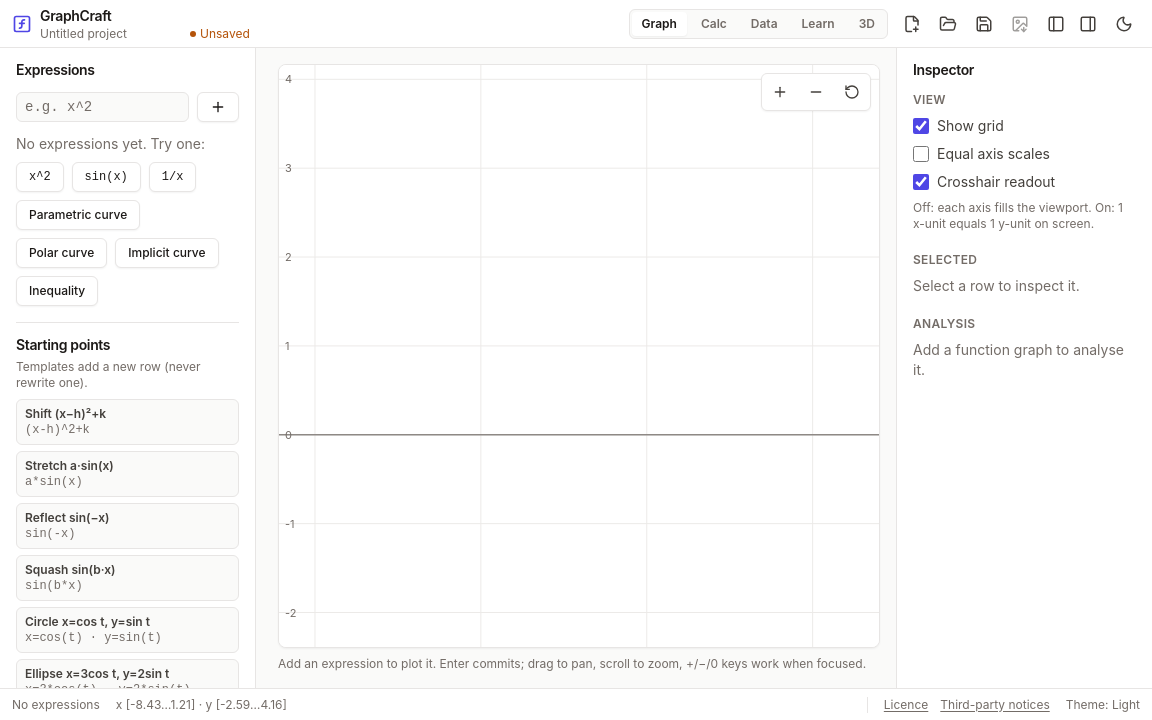
Test case: viewport persistence coalescing › persists the normalized default viewport after reset-view
Click the button named "Reset view": click(852, 92) [836,76,868,108]
Wait 200 ms
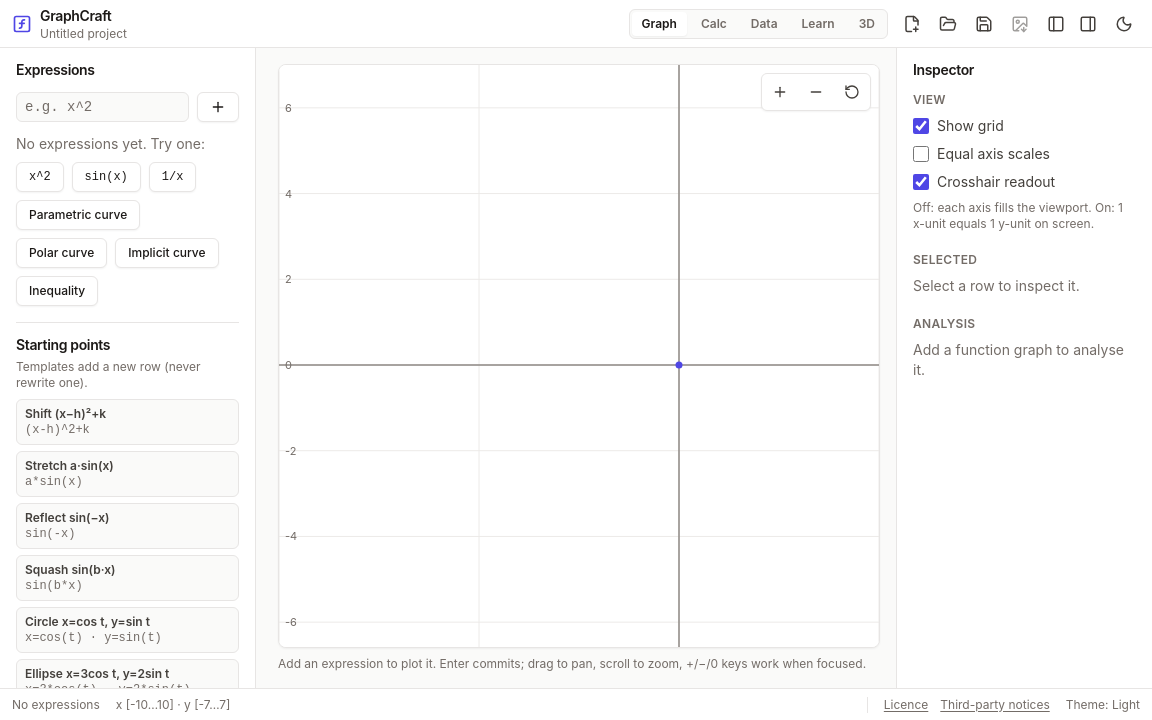
Expected: the text "Unsaved" is gone
